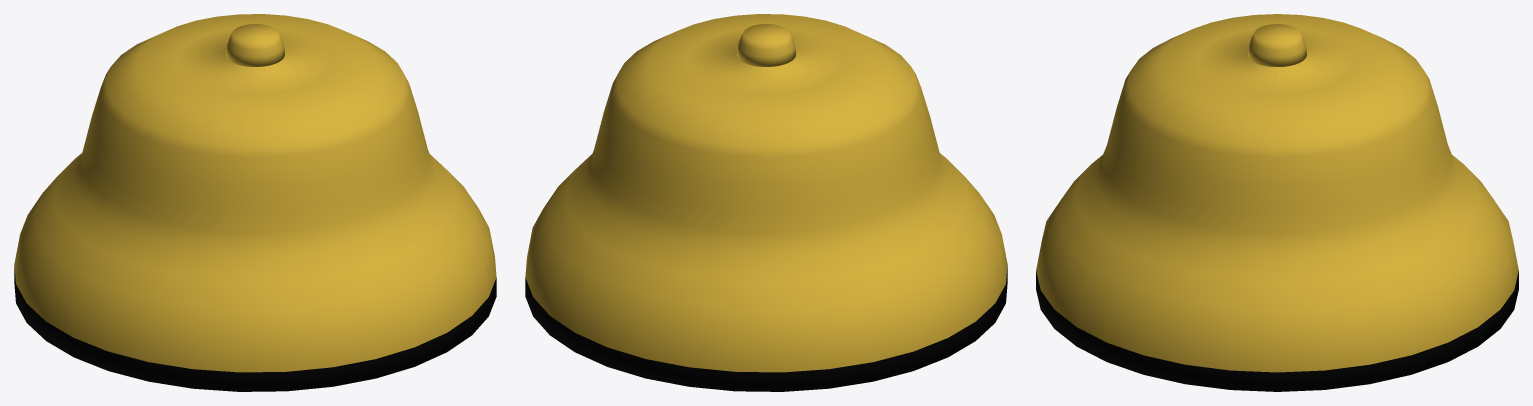
File: campanello_schiacciato.fbx
The picture shows the model from 3 angles, left to right: view 1: azimuth 30°, elevation 25°; view 2: azimuth 150°, elevation 25°; view 3: azimuth 270°, elevation 25°; orthographic projection.
Visible parts, largest first — view 1: Circle; view 2: Circle; view 3: Circle.
Part boxes in pixels (x1=…): Circle: x1=14, y1=14, x2=496, y2=391; Circle: x1=525, y1=14, x2=1007, y2=391; Circle: x1=1036, y1=14, x2=1518, y2=391.
Bounding box in the file's own units: 368 × 216 × 368.
